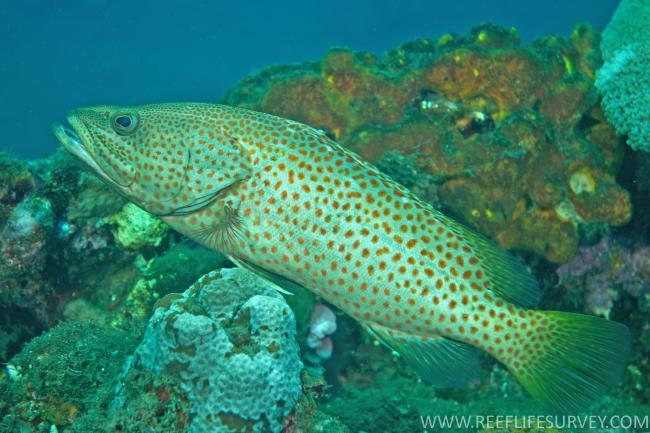fish: (52, 100, 630, 417)
